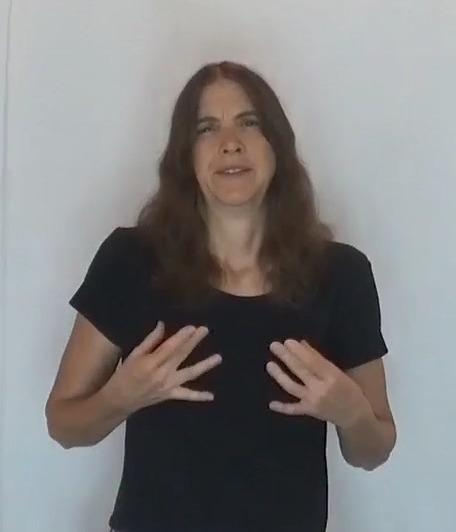Dolor: (34, 53, 415, 494)
